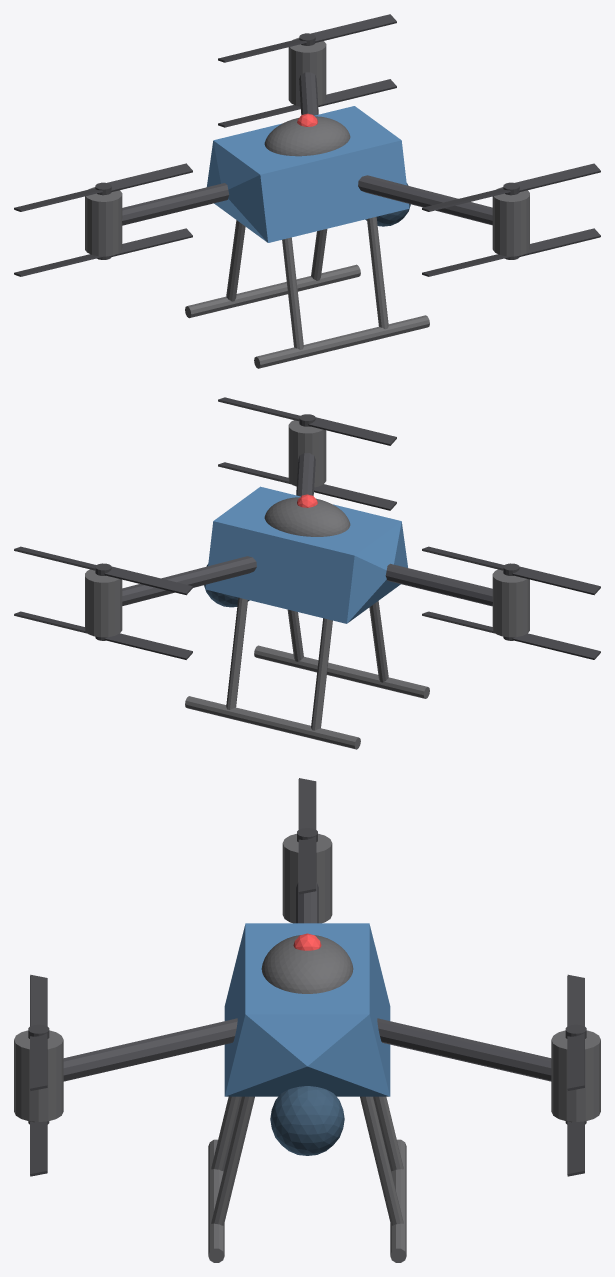
The model's file is smv_y6.glb.
3 views of the same model, one above another, from view 1: azimuth 30°, elevation 25°; view 2: azimuth 150°, elevation 25°; view 3: azimuth 270°, elevation 25° (orthographic). The views are drawn at different scales.
Parts seen in each view (by area): view 1: y6_v0, y6_v1, y6_v14, y6_v2, y6_v11, y6_v8, rotor_1_v0, rotor_0_v0, rotor_2_v0, rotor_3_v0, rotor_5_v0, rotor_4_v0 (+11 smaller); view 2: y6_v0, y6_v1, y6_v11, y6_v14, y6_v5, y6_v8, rotor_1_v0, rotor_2_v0, rotor_0_v0, rotor_4_v0, rotor_5_v0, rotor_3_v0 (+11 smaller); view 3: y6_v0, y6_v17, y6_v2, y6_v5, y6_v1, rotor_2_v0, rotor_1_v0, rotor_0_v0, y6_v13, y6_v16, y6_v7, y6_v4 (+11 smaller).
Boxes of the visible parts, x1,y1,x2,y2 form: y6_v0: (207, 106, 409, 242); y6_v1: (264, 116, 350, 156); y6_v14: (254, 315, 429, 368); y6_v2: (358, 175, 492, 225); y6_v11: (185, 264, 360, 318); y6_v8: (122, 183, 229, 225); rotor_1_v0: (218, 14, 396, 62); rotor_0_v0: (422, 163, 600, 211); rotor_2_v0: (14, 163, 192, 211); rotor_3_v0: (422, 228, 600, 276); rotor_5_v0: (14, 228, 192, 276); rotor_4_v0: (218, 79, 396, 127); y6_v0: (205, 486, 407, 623); y6_v1: (264, 497, 350, 536); y6_v11: (185, 696, 360, 749); y6_v14: (254, 645, 429, 698); y6_v5: (122, 556, 256, 605); y6_v8: (385, 563, 492, 606); rotor_1_v0: (14, 546, 192, 595); rotor_2_v0: (422, 546, 600, 595); rotor_0_v0: (218, 397, 396, 445); rotor_4_v0: (14, 611, 192, 659); rotor_5_v0: (422, 611, 600, 659); rotor_3_v0: (218, 462, 396, 510); y6_v0: (224, 923, 390, 1096); y6_v17: (270, 1086, 344, 1155); y6_v2: (63, 1018, 237, 1081); y6_v5: (377, 1018, 551, 1081); y6_v1: (261, 935, 353, 993); rotor_2_v0: (297, 778, 317, 894); rotor_1_v0: (565, 974, 586, 1090); rotor_0_v0: (28, 974, 49, 1090); y6_v13: (360, 1096, 403, 1225); y6_v16: (211, 1096, 254, 1225); y6_v7: (551, 1076, 600, 1121); y6_v4: (14, 1076, 63, 1121).
Size of the model in its own units: 0.8793 by 0.365 by 0.7095.
